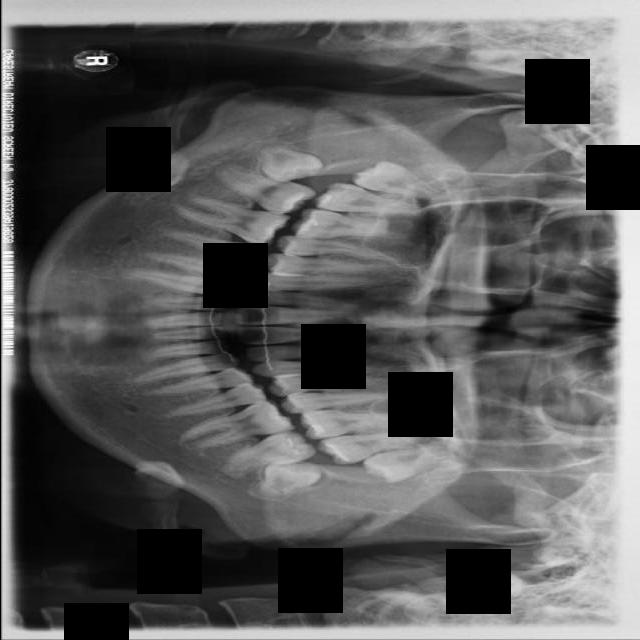3M ESPE Implant: (346, 157, 446, 201)
52: (261, 425, 317, 468), (292, 206, 340, 243)
73: (52, 598, 62, 604)
BioHorizons Implant: (313, 430, 431, 468)
BioLife Implant: (358, 439, 451, 490)
Biomet 3i Implant: (254, 458, 321, 498)
Blue Sky Bio Implant: (217, 424, 317, 483)
Caries: (310, 182, 426, 217)
Implant: (210, 161, 314, 223)
Keystone Dental Implant: (251, 136, 327, 199)
